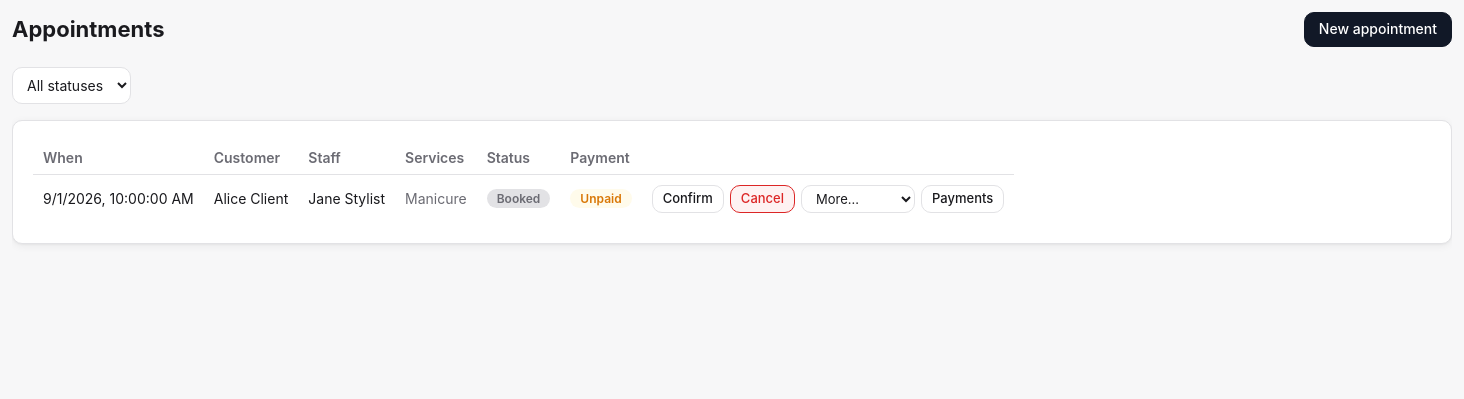
Test: AppointmentsPage - payments › records a payment with the form values and refreshes both the payment list and the appointment badge
The width and height of the screenshot is (1464, 399).
Expected: the text "Alice Client" is shown, [204,174,298,223]
Step 1. Click the button "Payments" → point(963, 199), box [921,185,1004,213]
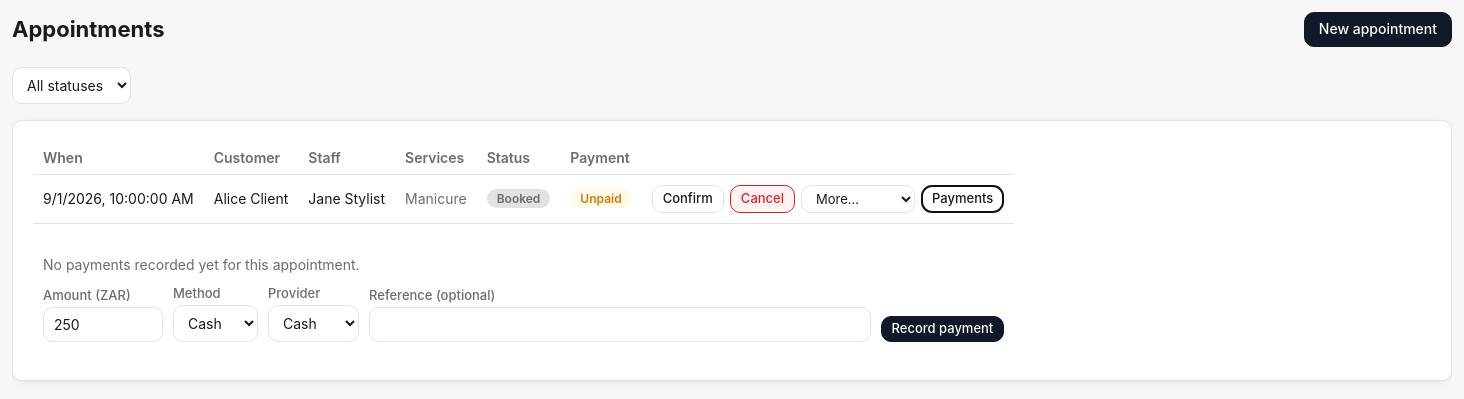
Expected: the text "No payments recorded yet for this appointment." is shown, [43,256,360,273]
Step 2. Select "Card" in the dropdown labelled "Method" → point(216, 323), box [173,305,258,342]
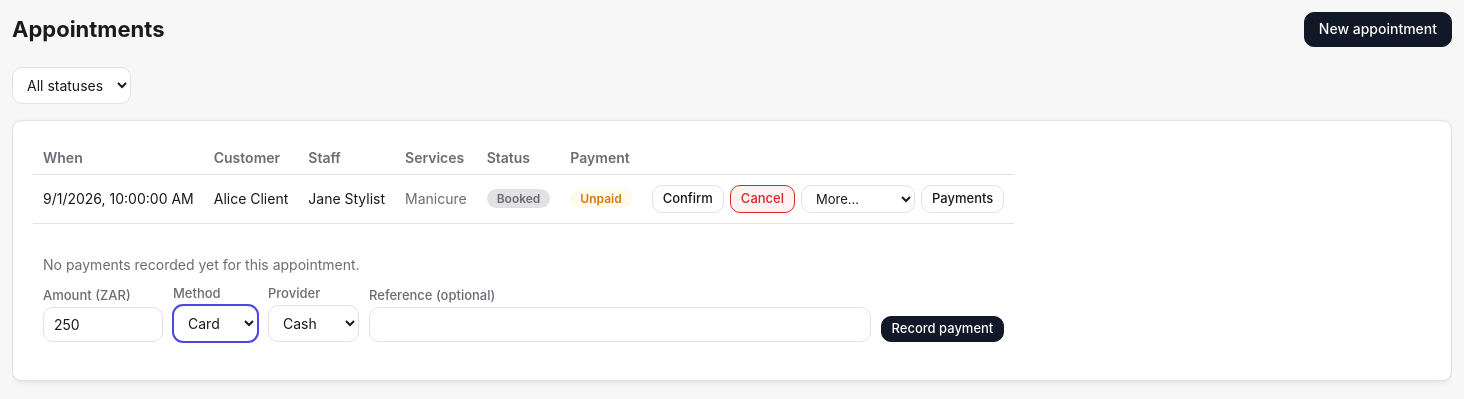
Step 3. Select "Manual" in the dropdown labelled "Provider" → point(314, 323), box [268,305,359,342]
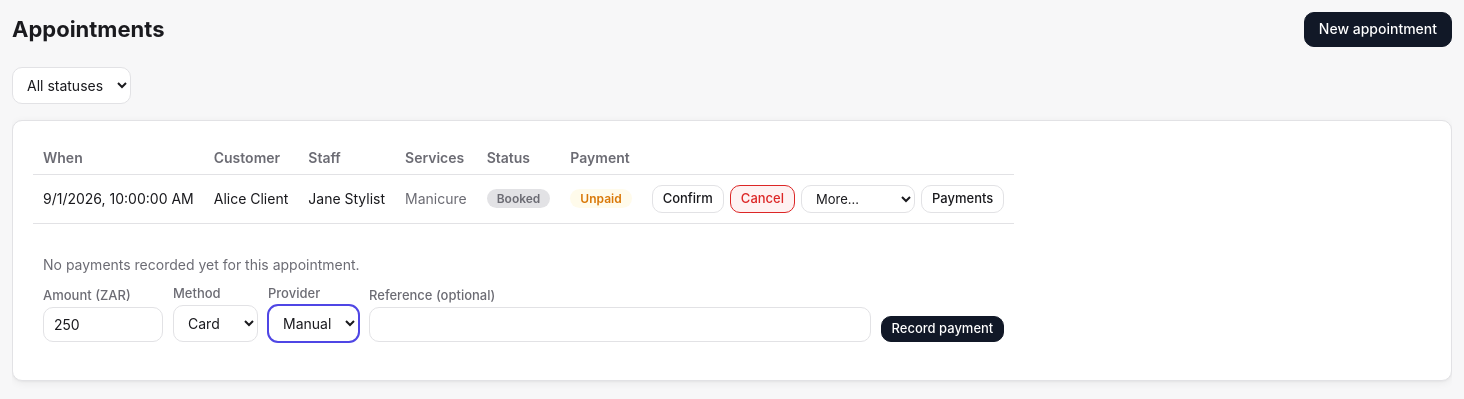
Step 4. Click the button "Record payment" → point(942, 329), box [880,316,1004,342]
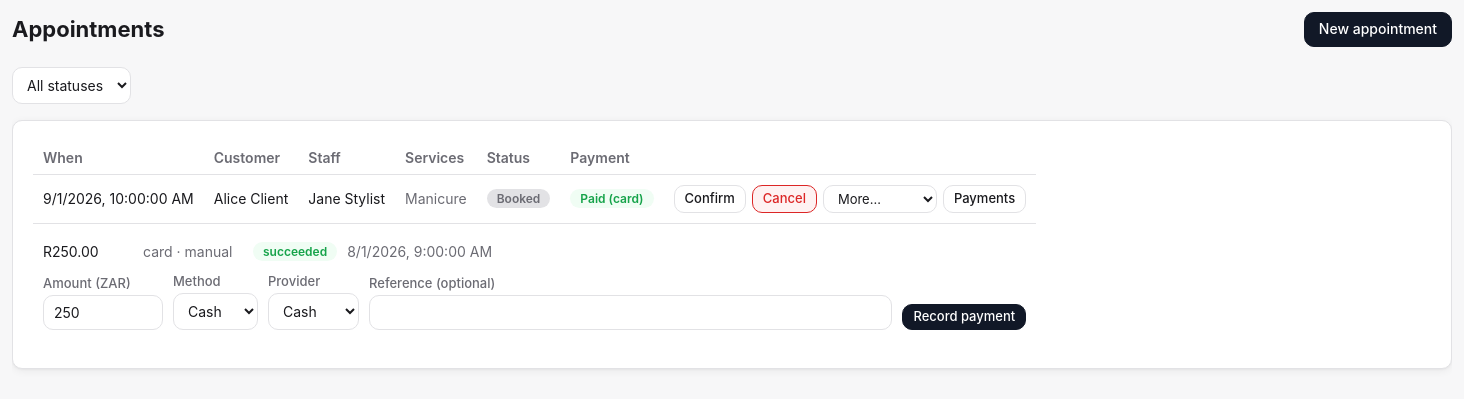
Expected: the text "R250.00" is shown, [43,243,99,260]
Expected: the text "Paid (card)" is shown, [570,189,654,208]
